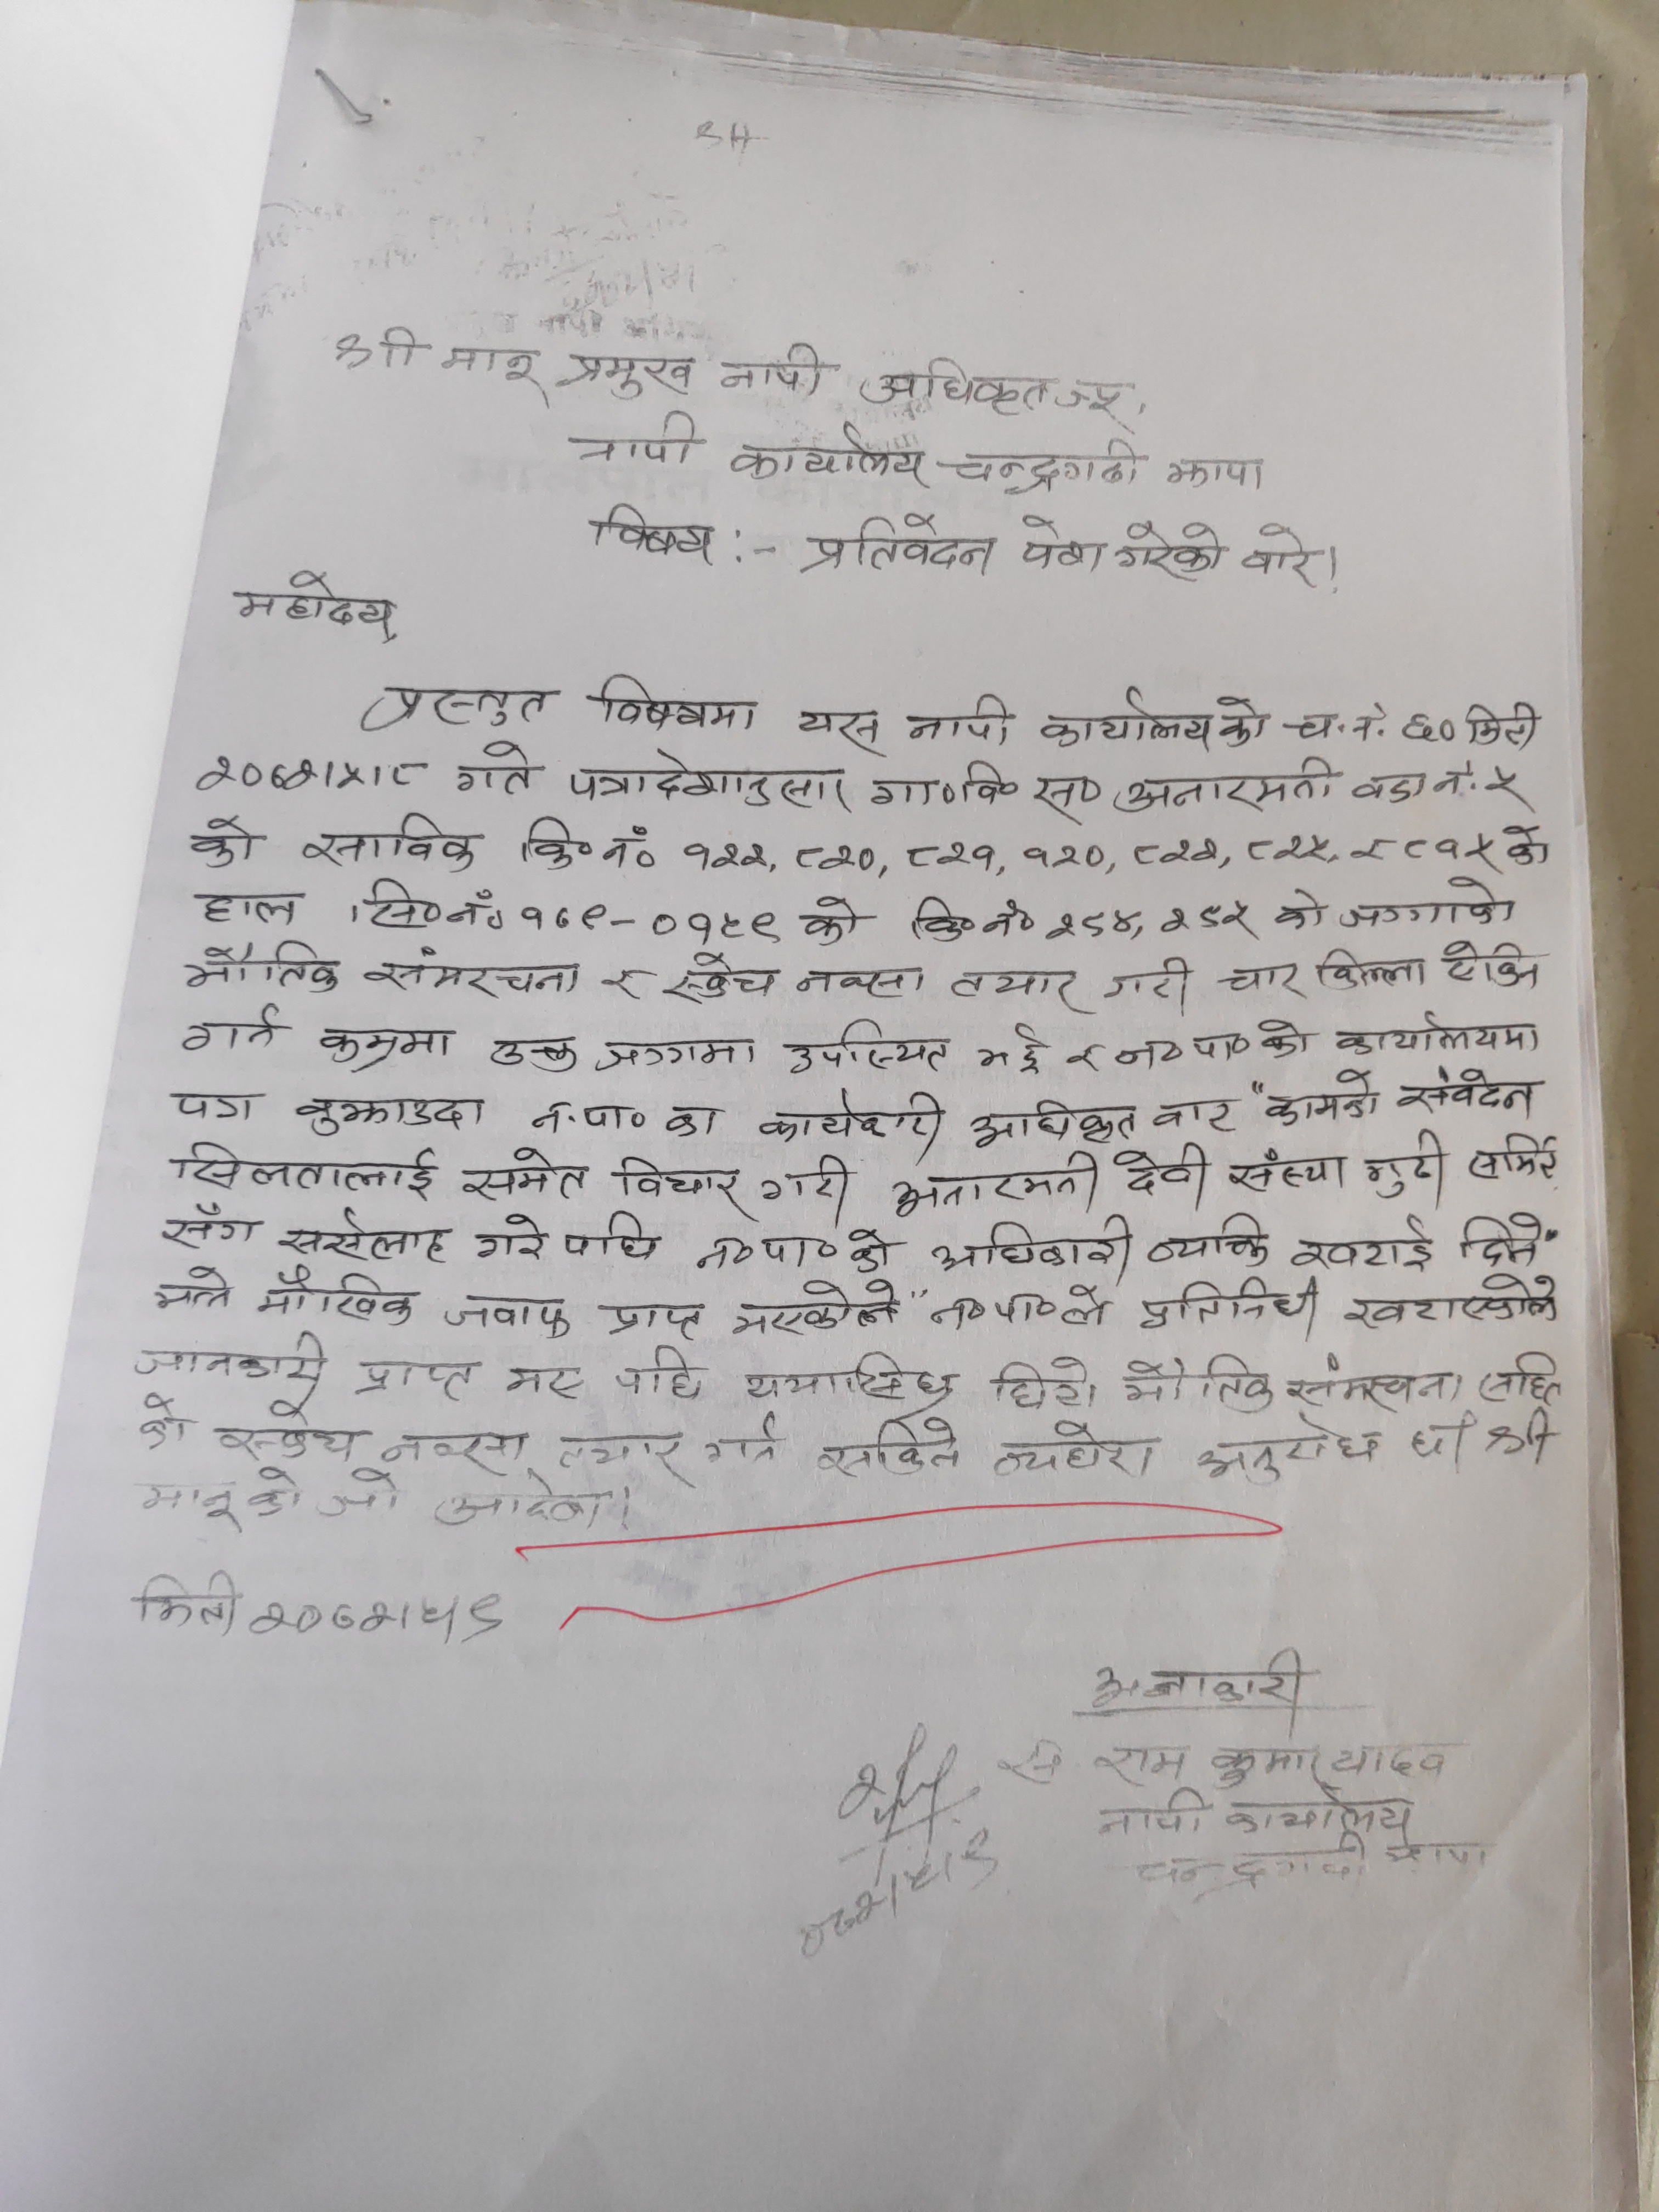text: (565, 749, 854, 813), (871, 754, 1105, 827), (1089, 1644, 1314, 1716), (171, 1141, 443, 1198), (247, 1590, 516, 1648), (1037, 686, 1272, 751), (744, 1345, 962, 1413), (889, 1150, 1101, 1217), (725, 418, 927, 489), (1114, 752, 1340, 815), (929, 1214, 1133, 1284), (938, 435, 1143, 502), (803, 510, 995, 580), (1340, 1273, 1572, 1331), (1195, 1421, 1391, 1489), (990, 1414, 1166, 1489), (366, 946, 582, 1007), (1110, 1012, 1314, 1076), (854, 355, 1053, 420), (1134, 1271, 1326, 1338), (230, 570, 396, 644), (129, 1329, 331, 1388), (190, 749, 425, 799), (512, 899, 784, 942), (756, 1087, 945, 1150), (253, 1259, 420, 1329), (694, 1223, 897, 1278), (301, 810, 481, 871), (1284, 1348, 1464, 1409), (927, 1280, 1112, 1339), (272, 1209, 450, 1270), (721, 1275, 904, 1334), (1335, 876, 1528, 932), (784, 1012, 950, 1076), (1119, 1350, 1279, 1416), (1288, 1211, 1443, 1278), (1333, 1010, 1554, 1057), (594, 671, 760, 733), (141, 1467, 301, 1531), (361, 681, 558, 733), (816, 1418, 965, 1486), (291, 1090, 495, 1139), (179, 937, 345, 996), (213, 1399, 359, 1465), (967, 1096, 1136, 1151), (432, 1486, 608, 1538), (528, 1092, 721, 1139), (589, 500, 720, 568), (345, 880, 509, 934), (1223, 1791, 1419, 1834), (1394, 1061, 1537, 1120), (591, 1029, 756, 1080), (1114, 514, 1227, 587), (458, 1144, 594, 1205), (606, 1151, 749, 1209), (1140, 1211, 1274, 1271), (314, 1021, 460, 1076), (375, 1426, 528, 1479), (572, 408, 699, 470), (1262, 1064, 1384, 1129), (437, 1291, 572, 1348), (660, 948, 779, 1012), (554, 348, 699, 401), (521, 815, 655, 871), (897, 895, 1042, 946), (549, 1426, 687, 1479), (1363, 1123, 1450, 1205), (985, 1353, 1101, 1414), (132, 1569, 242, 1634), (1464, 1125, 1574, 1190), (1326, 1737, 1460, 1789), (903, 690, 1014, 752), (1112, 1137, 1211, 1207), (793, 961, 934, 1008), (1204, 1738, 1324, 1792), (178, 1001, 289, 1059), (1014, 512, 1108, 580), (347, 1353, 472, 1404), (716, 340, 823, 399), (613, 1339, 708, 1406), (1310, 946, 1432, 996), (1239, 521, 1323, 592), (1227, 1150, 1349, 1198), (1091, 1791, 1204, 1843), (558, 1209, 660, 1266), (1455, 1204, 1546, 1268), (945, 963, 1087, 1003), (159, 1197, 263, 1251), (1101, 956, 1194, 1017), (450, 737, 538, 799), (699, 1409, 793, 1468), (1473, 1348, 1567, 1407), (756, 1151, 852, 1209), (441, 338, 538, 394), (312, 1470, 408, 1526), (1054, 368, 1136, 432), (1150, 890, 1256, 939), (1288, 700, 1391, 749), (791, 705, 884, 759), (190, 885, 300, 930), (152, 1264, 240, 1320), (1483, 1406, 1560, 1470), (1093, 1738, 1183, 1791), (592, 1299, 709, 1339), (467, 1211, 547, 1268), (1215, 960, 1305, 1010), (333, 327, 429, 374), (993, 1728, 1068, 1787), (974, 1022, 1051, 1080), (1462, 700, 1544, 752), (132, 1388, 192, 1460), (486, 1035, 582, 1078), (1161, 455, 1269, 493), (1150, 1094, 1241, 1139), (1129, 831, 1223, 874), (498, 1359, 587, 1404), (190, 813, 261, 869), (1351, 759, 1431, 808), (789, 834, 875, 880), (1403, 826, 1493, 867), (1042, 902, 1133, 944), (904, 836, 999, 876), (1244, 826, 1331, 867), (676, 840, 770, 878), (795, 894, 859, 948), (1399, 700, 1459, 756), (169, 1089, 260, 1123), (1269, 887, 1326, 939), (1502, 819, 1554, 869), (1021, 841, 1112, 869), (1344, 829, 1394, 878), (1481, 763, 1530, 806), (1431, 759, 1478, 803), (1406, 1421, 1448, 1468), (601, 960, 645, 1001), (1066, 1040, 1108, 1078)
